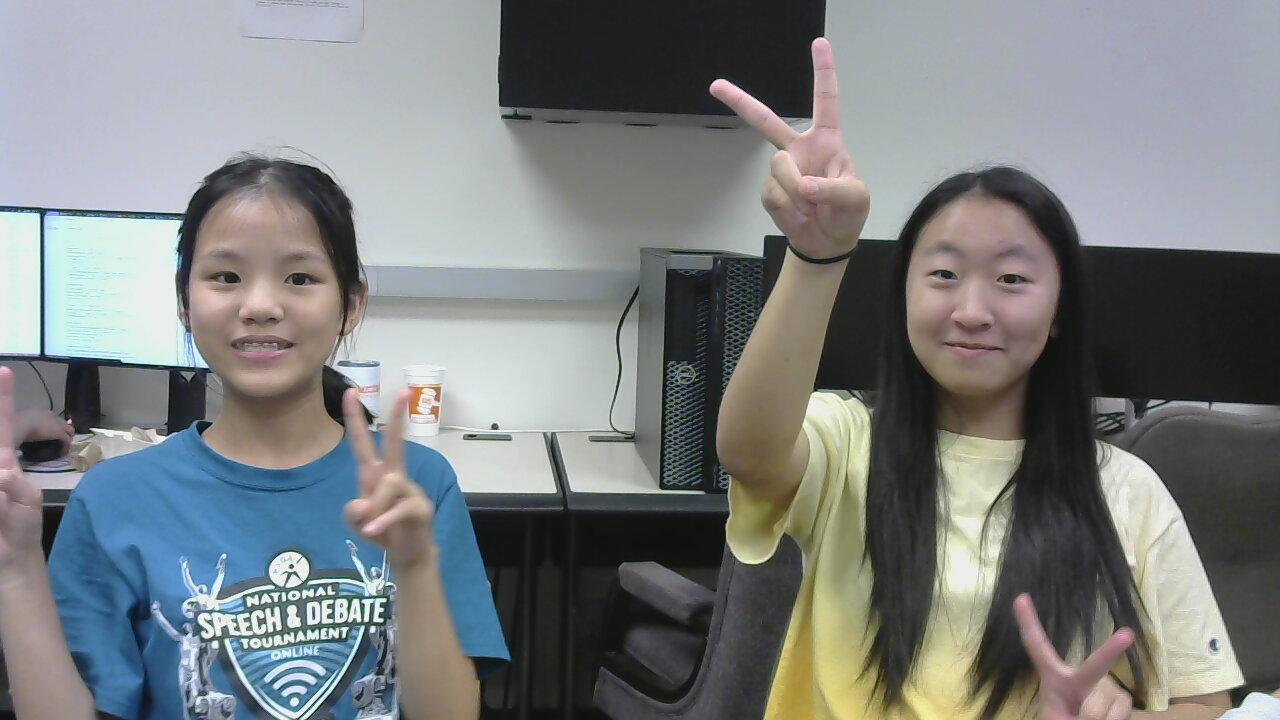hands: (0, 360, 48, 582)
peace: (700, 19, 883, 262), (994, 571, 1140, 720), (332, 372, 438, 558)
